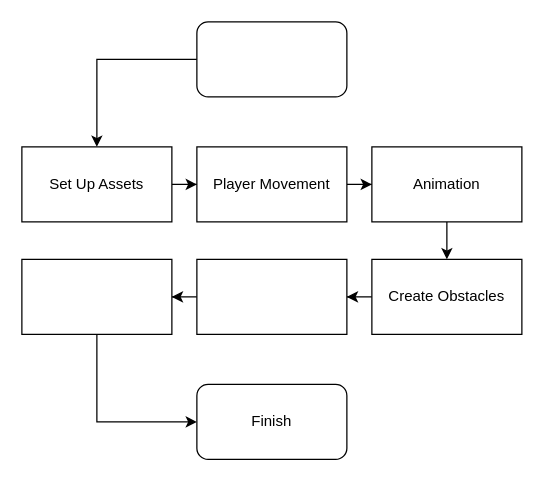
The diagram is 544 pixels wide and 481 high, and some of its shapes have lost their labels. The shapes that lost their labels are listed below. From the top down, each one's box as (x1, y1, x2, y2) in pixels, then its label:
(196, 21, 347, 97): Start
(21, 258, 172, 334): Score UI
(196, 258, 347, 334): Make Restart Game
